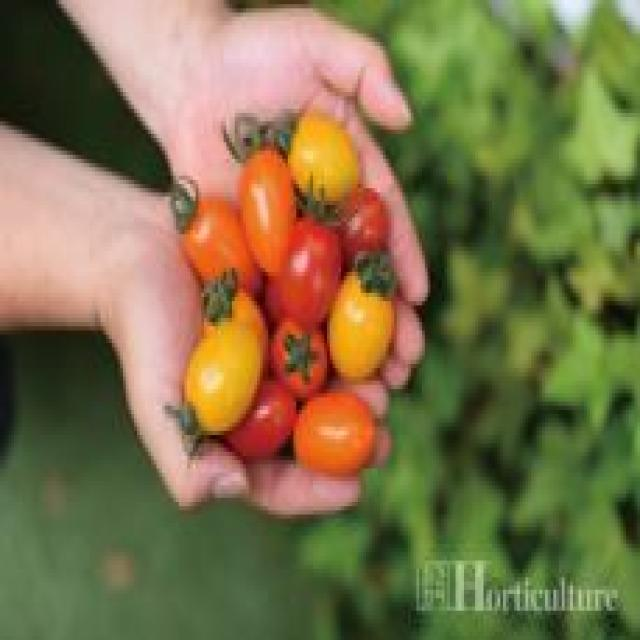level 3: (173, 325, 260, 456), (283, 100, 366, 216), (330, 239, 394, 387)
level 4: (175, 170, 259, 308), (232, 127, 308, 272), (287, 388, 384, 486)
level 5: (274, 194, 348, 330), (269, 304, 330, 394)
level 6: (224, 374, 294, 463), (335, 173, 387, 269)
